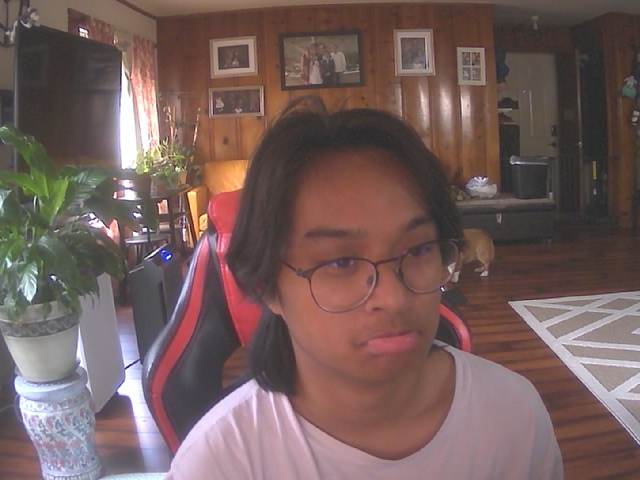sad: (253, 124, 462, 388)
